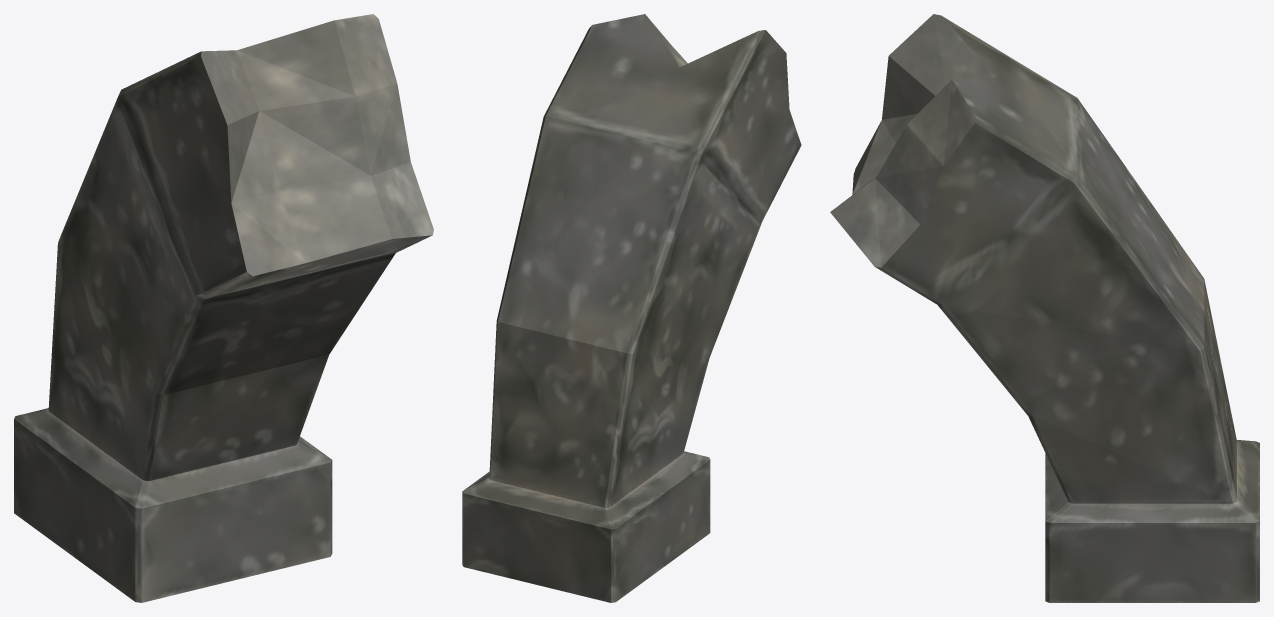
The model's file is Arc_half_001.obj.
3 views of the same model, side by side, from view 1: azimuth 30°, elevation 25°; view 2: azimuth 150°, elevation 25°; view 3: azimuth 270°, elevation 25° (orthographic). The views are drawn at different scales.
Parts seen in each view (by area): view 1: Arc_half_001; view 2: Arc_half_001; view 3: Arc_half_001.
Boxes of the visible parts, x1,y1,x2,y2 form: Arc_half_001: [14, 14, 433, 602]; Arc_half_001: [462, 14, 801, 602]; Arc_half_001: [830, 14, 1259, 602].
Size of the model in its own units: 2 by 5.64 by 4.33.
